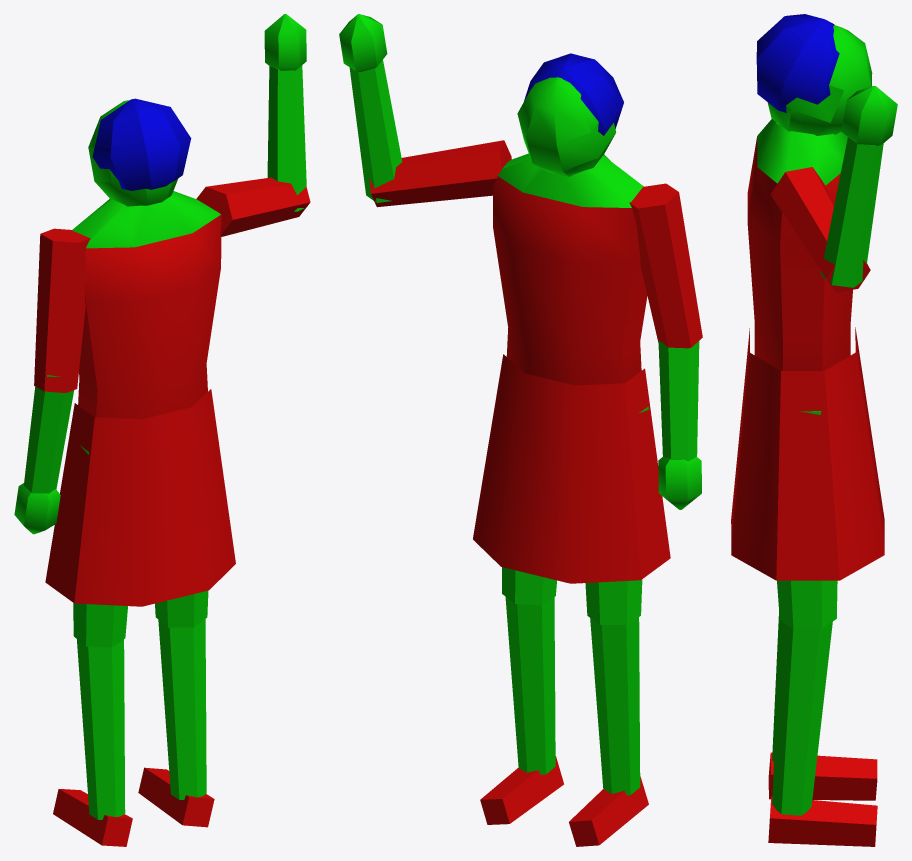
File: stand_fist_pump.glb
The picture shows the model from 3 angles, left to right: view 1: azimuth 30°, elevation 25°; view 2: azimuth 150°, elevation 25°; view 3: azimuth 270°, elevation 25°; orthographic projection. The views are drawn at different scales.
Parts seen in each view (by area): view 1: OUT; view 2: OUT; view 3: OUT.
Boxes of the visible parts, bbox=[...] form: OUT: bbox=[14, 14, 310, 846]; OUT: bbox=[339, 14, 702, 846]; OUT: bbox=[731, 14, 897, 846].
Bounding box in the file's own units: 0.764 × 1.76 × 0.3212.
